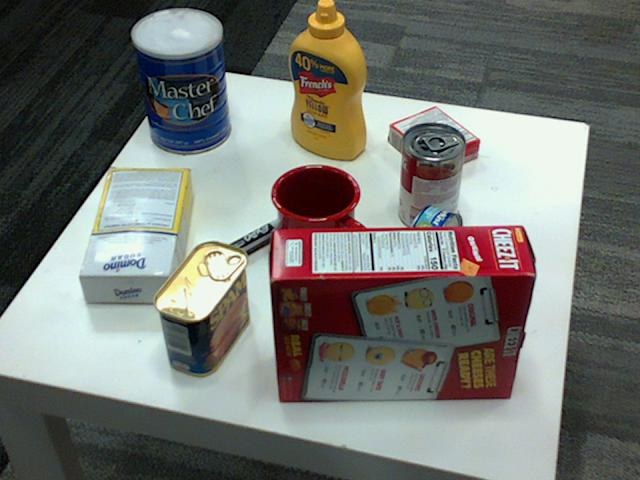cracker_box: (268, 222, 534, 399)
gelatin_box: (390, 106, 480, 174)
large_marker: (203, 210, 299, 275)
master_chef_can: (129, 9, 228, 154)
mug: (270, 161, 369, 270)
mustard_bottle: (288, 0, 365, 160)
potted_meat_can: (154, 240, 249, 376)
sugar_box: (79, 164, 192, 300)
tomato_soup_can: (397, 123, 464, 232)
tuna_fish_can: (397, 204, 462, 292)
